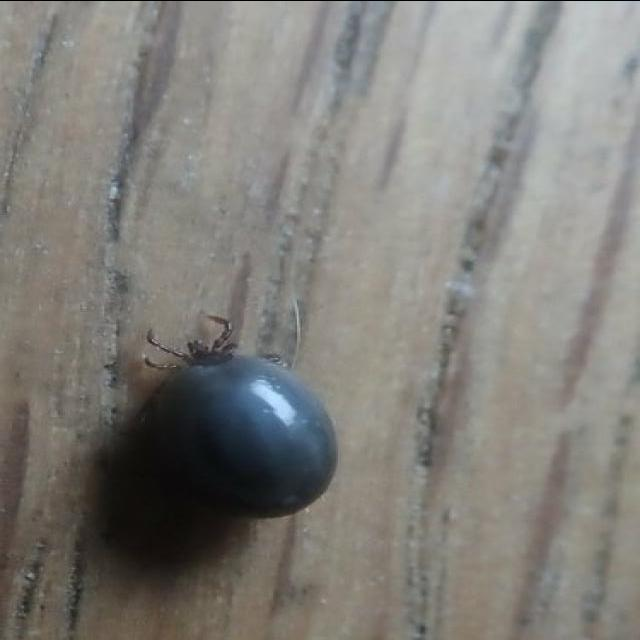Ixodes Ricinus-F-Fed: (118, 311, 338, 517)
